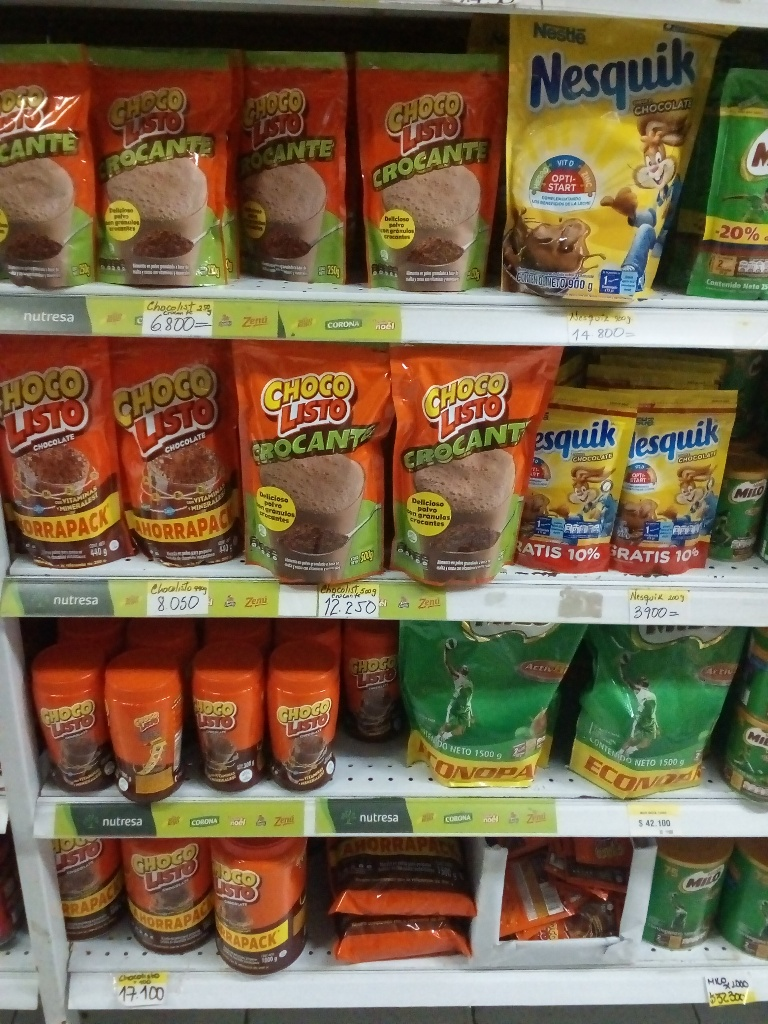COL0170102DYP50000: (229, 341, 387, 581)
COL0170103DYP44000: (2, 336, 129, 570)
COL0170103TRR00100: (43, 840, 130, 962)
COL0170103TRR30000: (23, 648, 110, 794)
COL0170203LAT20000: (722, 452, 766, 570)
